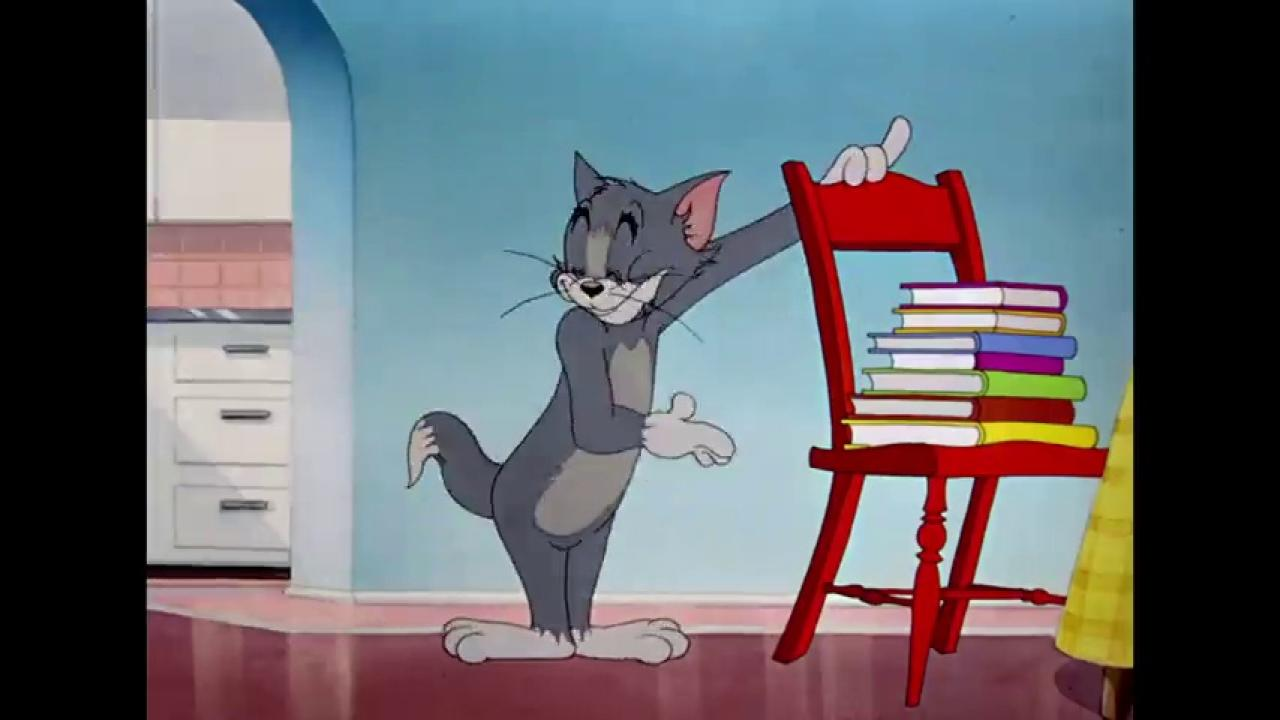Tom: (402, 114, 914, 669)
